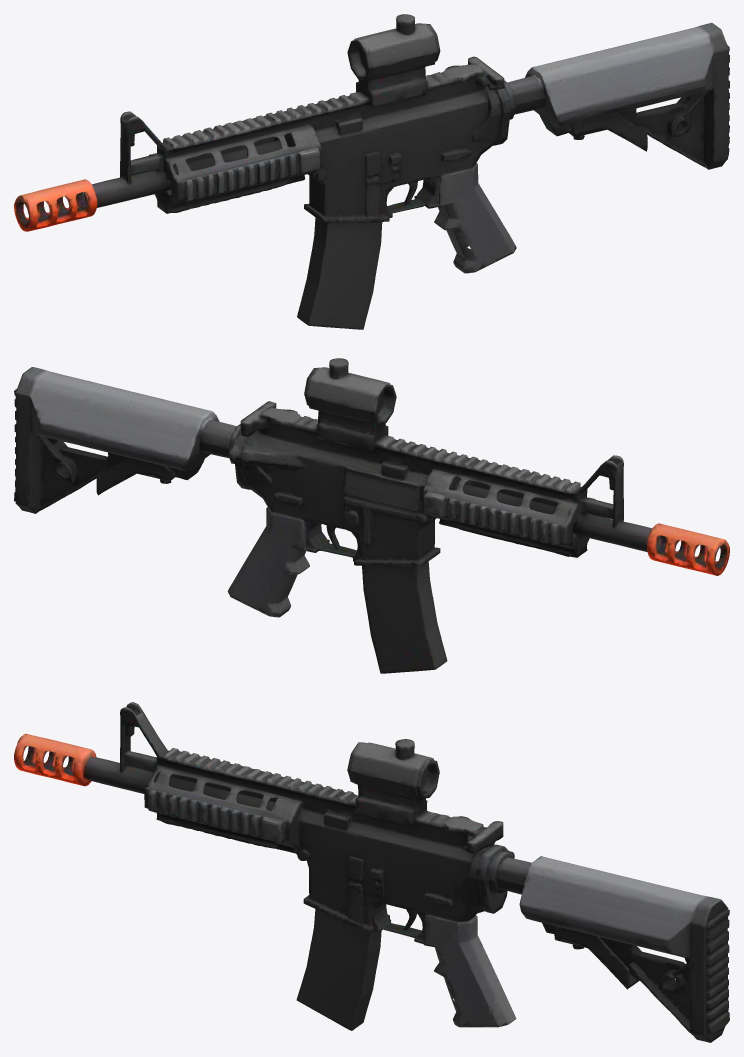
File: arma_fuzil.glb
3 renders of one model, top to bottom at view 1: azimuth 30°, elevation 25°; view 2: azimuth 150°, elevation 25°; view 3: azimuth 330°, elevation 25°, orthographic.
Visible parts, largest first — view 1: tripo_node_1463a7ae-cbc5-48f5-84c1-abfd0e9e4d9d; view 2: tripo_node_1463a7ae-cbc5-48f5-84c1-abfd0e9e4d9d; view 3: tripo_node_1463a7ae-cbc5-48f5-84c1-abfd0e9e4d9d.
Part boxes in pixels (bbox=[...]): tripo_node_1463a7ae-cbc5-48f5-84c1-abfd0e9e4d9d: bbox=[14, 14, 729, 329]; tripo_node_1463a7ae-cbc5-48f5-84c1-abfd0e9e4d9d: bbox=[14, 358, 729, 673]; tripo_node_1463a7ae-cbc5-48f5-84c1-abfd0e9e4d9d: bbox=[14, 702, 729, 1042].
Size of the model in its own units: 1 by 0.4051 by 0.0991.
Materials: 1 (1 with a texture image).
